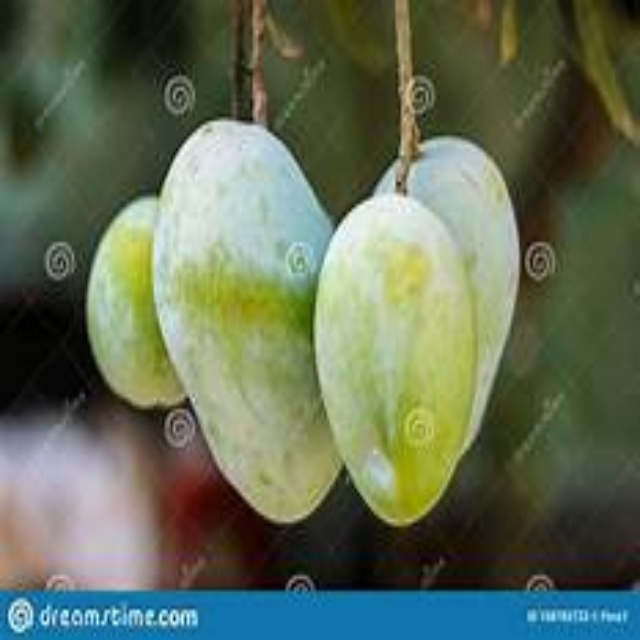mango: (319, 135, 518, 520), (153, 115, 331, 529), (88, 192, 196, 415)
